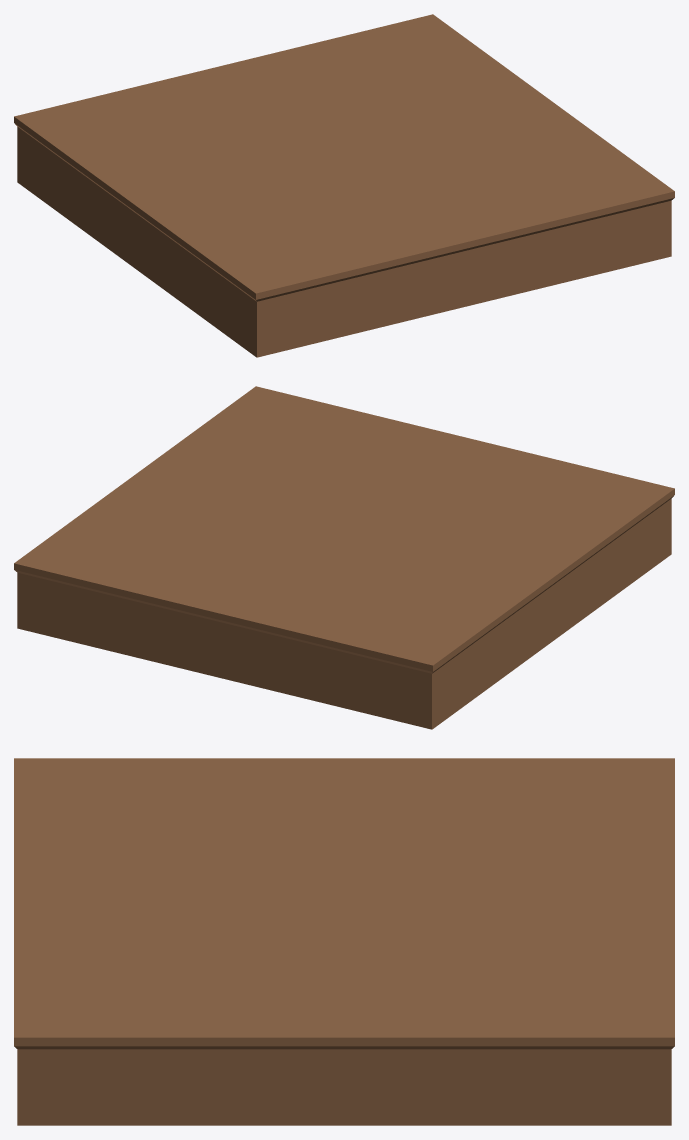
Rendered from stand.dae.
3 views of the same model, one above another, from view 1: azimuth 30°, elevation 25°; view 2: azimuth 150°, elevation 25°; view 3: azimuth 270°, elevation 25° (orthographic). The views are drawn at different scales.
Visible parts, largest first — view 1: Cube; view 2: Cube; view 3: Cube.
Boxes of the visible parts, bbox=[...] form: Cube: bbox=[14, 14, 674, 357]; Cube: bbox=[14, 386, 674, 729]; Cube: bbox=[14, 758, 674, 1125].
Bounding box in the file's own units: 2.02 × 2.02 × 0.3021.
